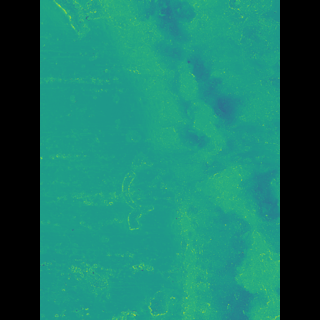Loch: (116, 0, 248, 320)
